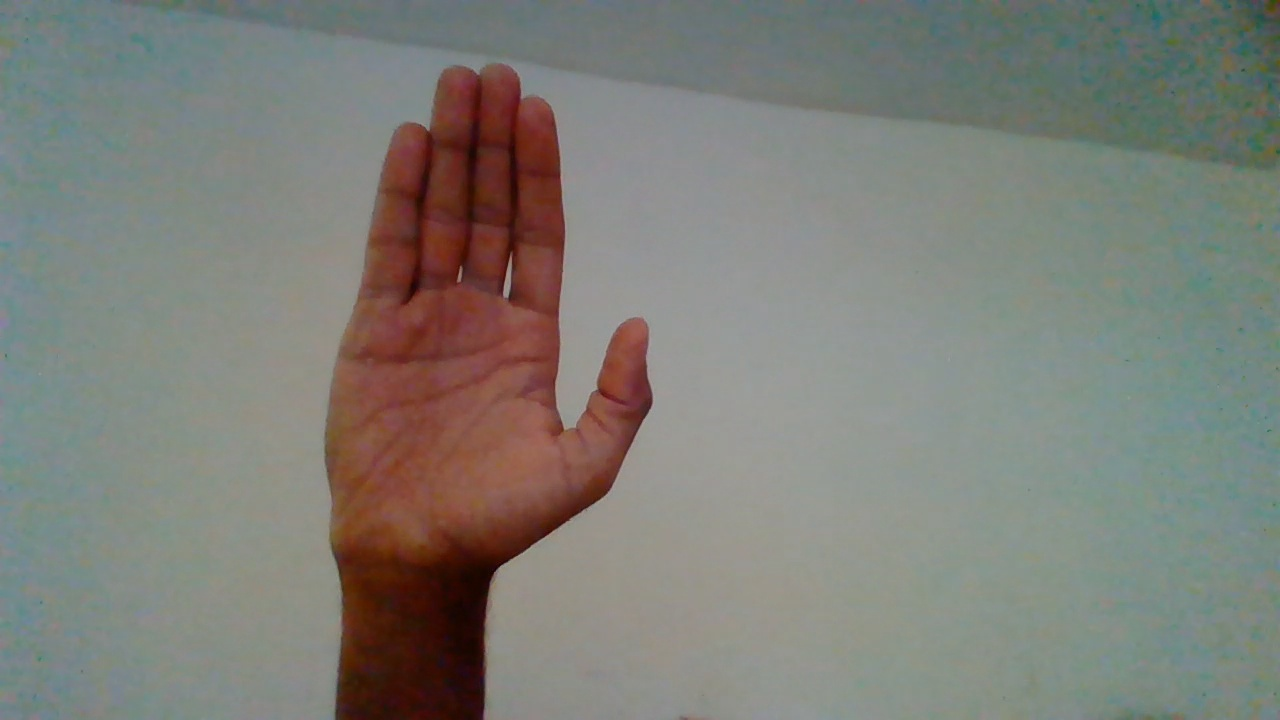ha: (324, 66, 659, 638)
